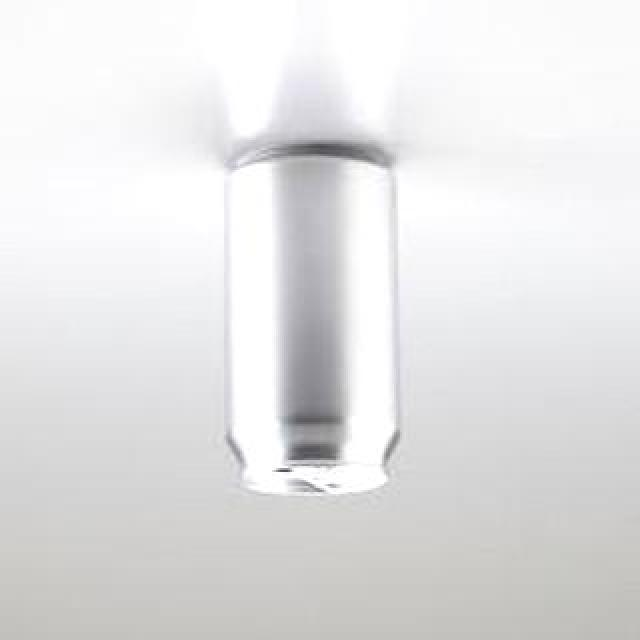Can: (219, 133, 421, 507)
